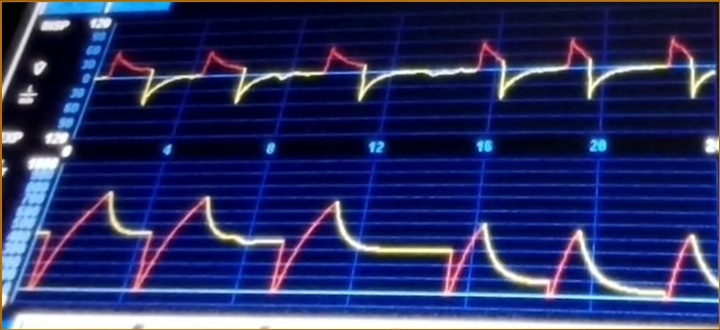Flow: (109, 21, 711, 132)
Leakage Volume: (59, 173, 714, 308)
